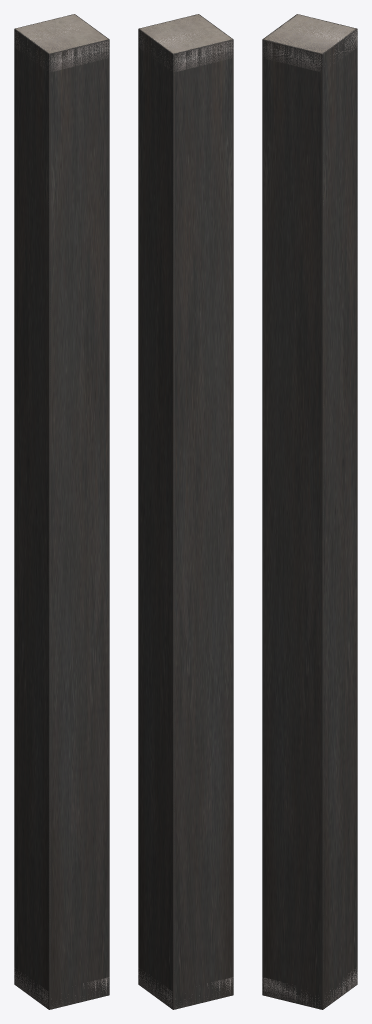
File: SM_FacilityRooms_WallCorner.fbx
3 renders of one model, left to right at view 1: azimuth 30°, elevation 25°; view 2: azimuth 210°, elevation 25°; view 3: azimuth 330°, elevation 25°, orthographic.
Parts seen in each view (by area): view 1: SM_FacilityRooms_WallCorner; view 2: SM_FacilityRooms_WallCorner; view 3: SM_FacilityRooms_WallCorner.
Part boxes in pixels (x1,y1,x2,y2): SM_FacilityRooms_WallCorner: (14, 14, 109, 1009); SM_FacilityRooms_WallCorner: (138, 14, 233, 1009); SM_FacilityRooms_WallCorner: (262, 14, 357, 1009).
Size of what is drawn, in the model's own units: 20 by 20 by 300.
